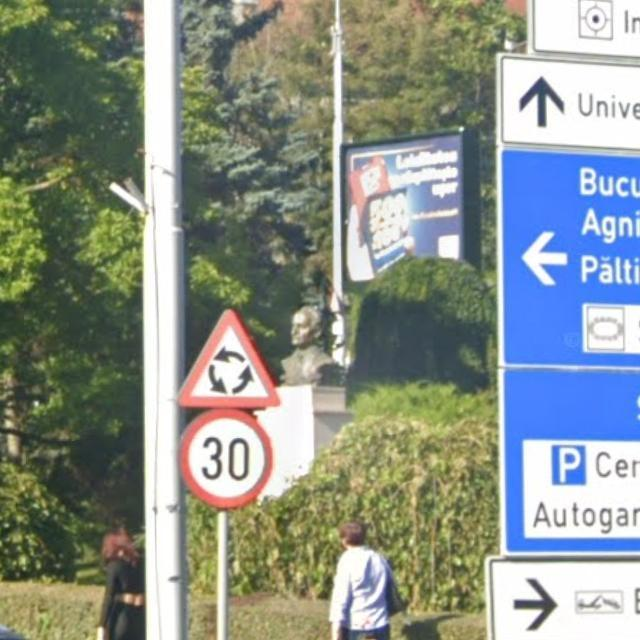forb_speed_over_30: (177, 410, 275, 510)
